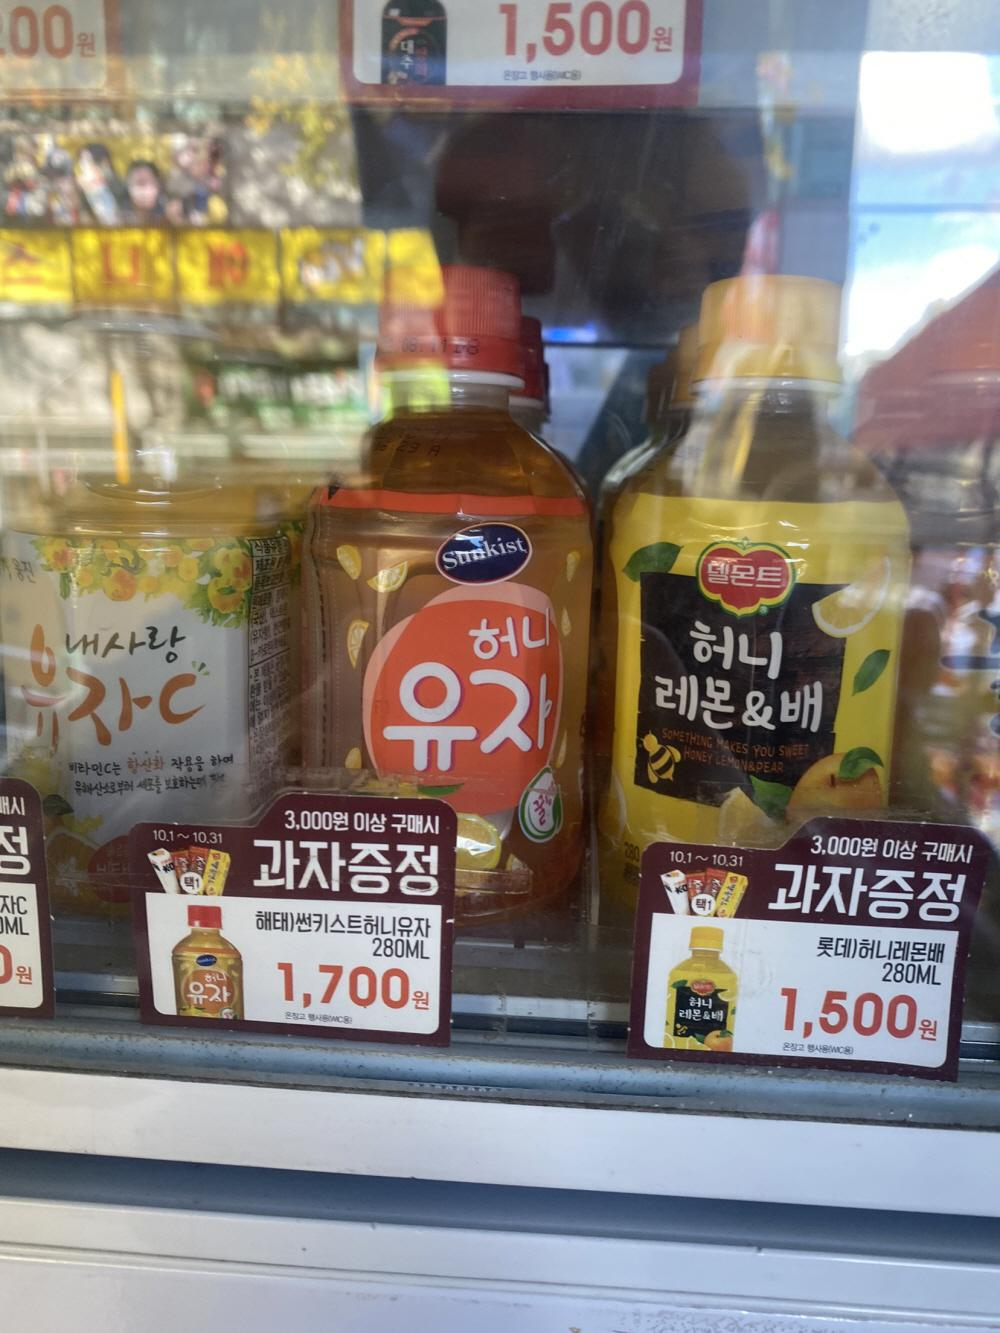honeyyuja: (275, 282, 601, 857)
